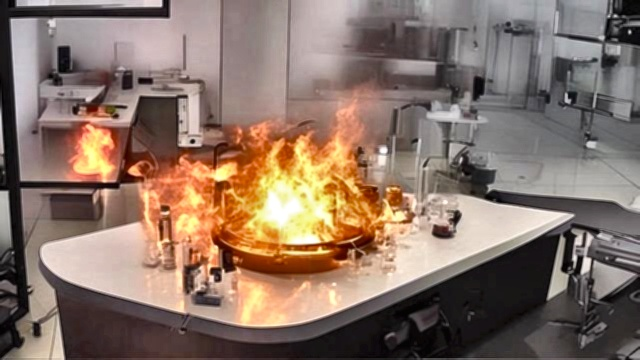fire: (65, 113, 413, 286)
